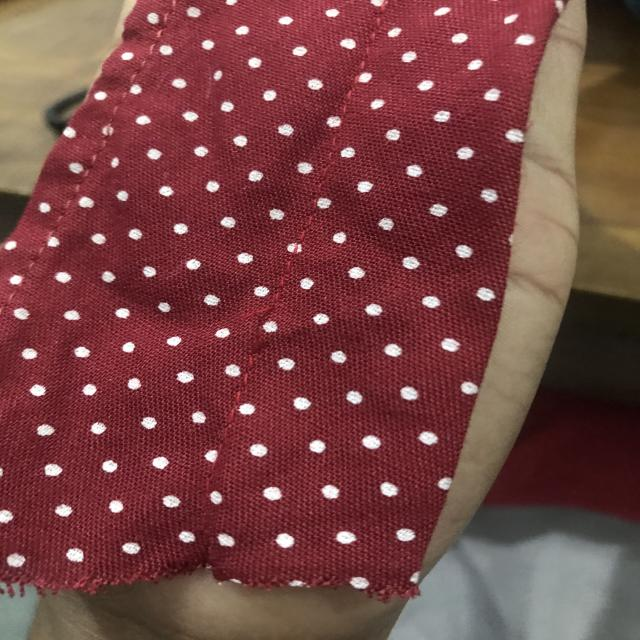broken: (222, 281, 296, 363)
